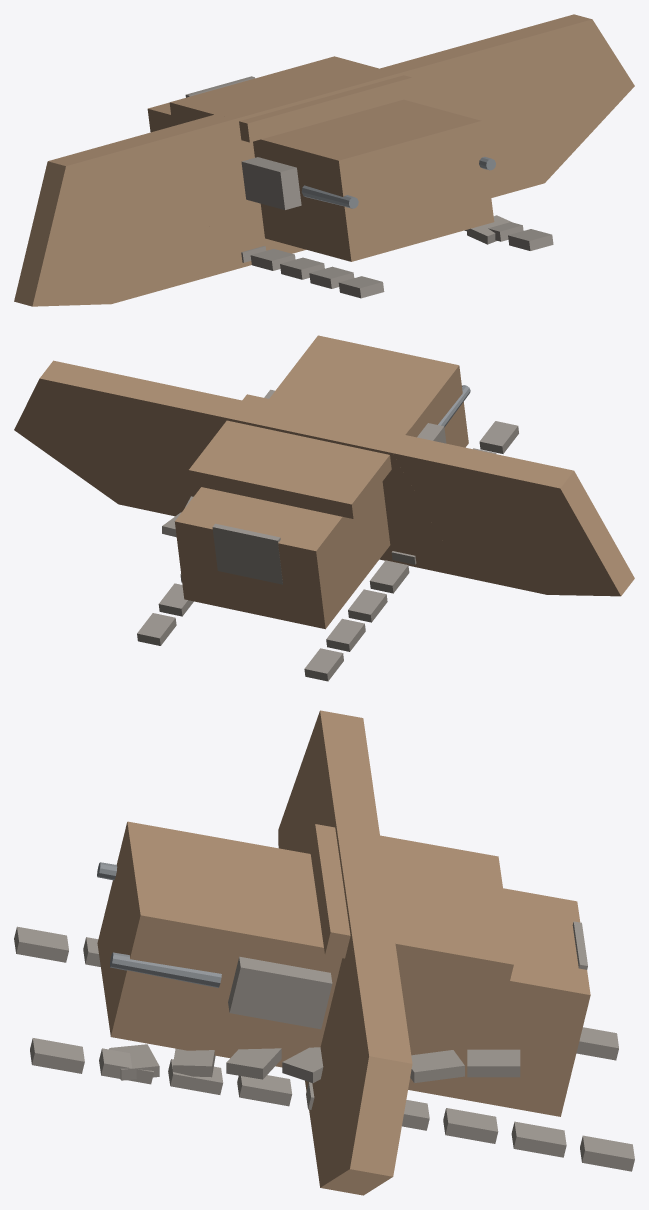
File: trench-line-1917-wrecked-early-tank-c0d1f008__24088.glb
3 renders of one model, top to bottom at view 1: azimuth 30°, elevation 25°; view 2: azimuth 150°, elevation 25°; view 3: azimuth 270°, elevation 25°, orthographic. The views are drawn at different scales.
Visible parts, largest first — view 1: wrecked-early-tank; view 2: wrecked-early-tank; view 3: wrecked-early-tank.
Boxes of the visible parts, x1,y1,x2,y2 form: wrecked-early-tank: (14,14,634,306); wrecked-early-tank: (14,335,634,681); wrecked-early-tank: (14,710,634,1195).
Bounding box in the file's own units: 11.08 × 3.26 × 7.26.
